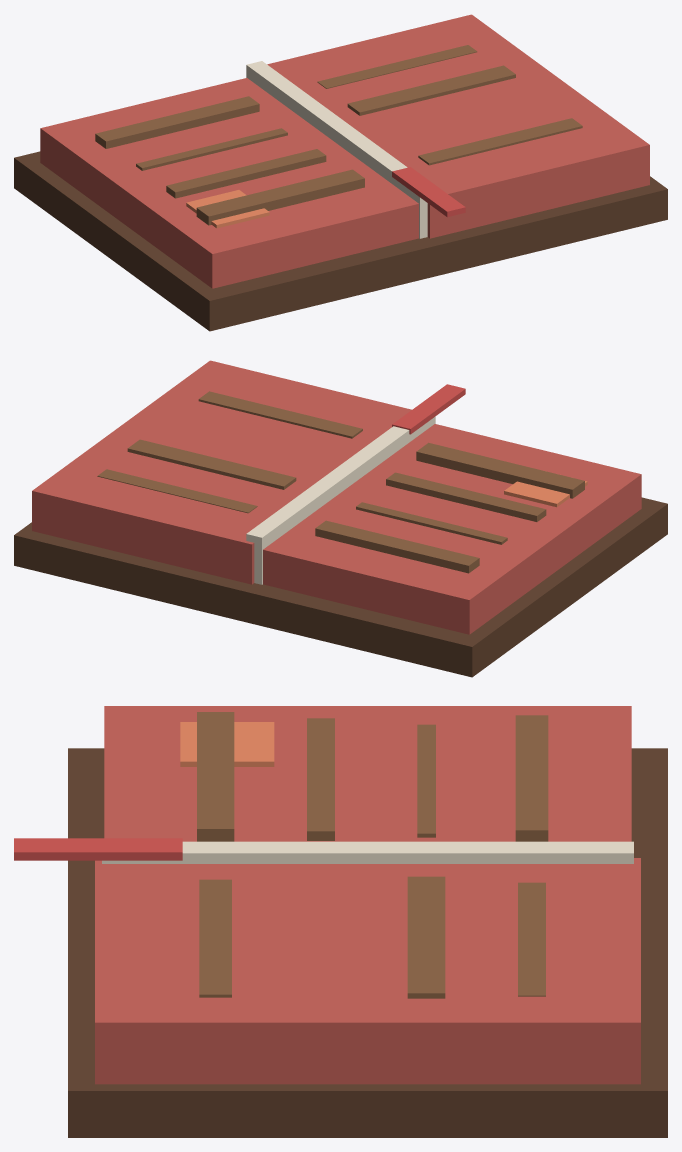
File: deco_furn_book.obj
The picture shows the model from 3 angles, top to bottom: view 1: azimuth 30°, elevation 25°; view 2: azimuth 150°, elevation 25°; view 3: azimuth 270°, elevation 25°; orthographic projection. The views are drawn at different scales.
Visible parts, largest first — view 1: deco_furn_book; view 2: deco_furn_book; view 3: deco_furn_book.
Part boxes in pixels (x1,y1,x2,y2): deco_furn_book: (14, 14, 667, 331); deco_furn_book: (14, 360, 667, 677); deco_furn_book: (14, 706, 667, 1137).
Size of the model in its own units: 0.346 by 0.057 by 0.279.
1 material, 1 textured.
